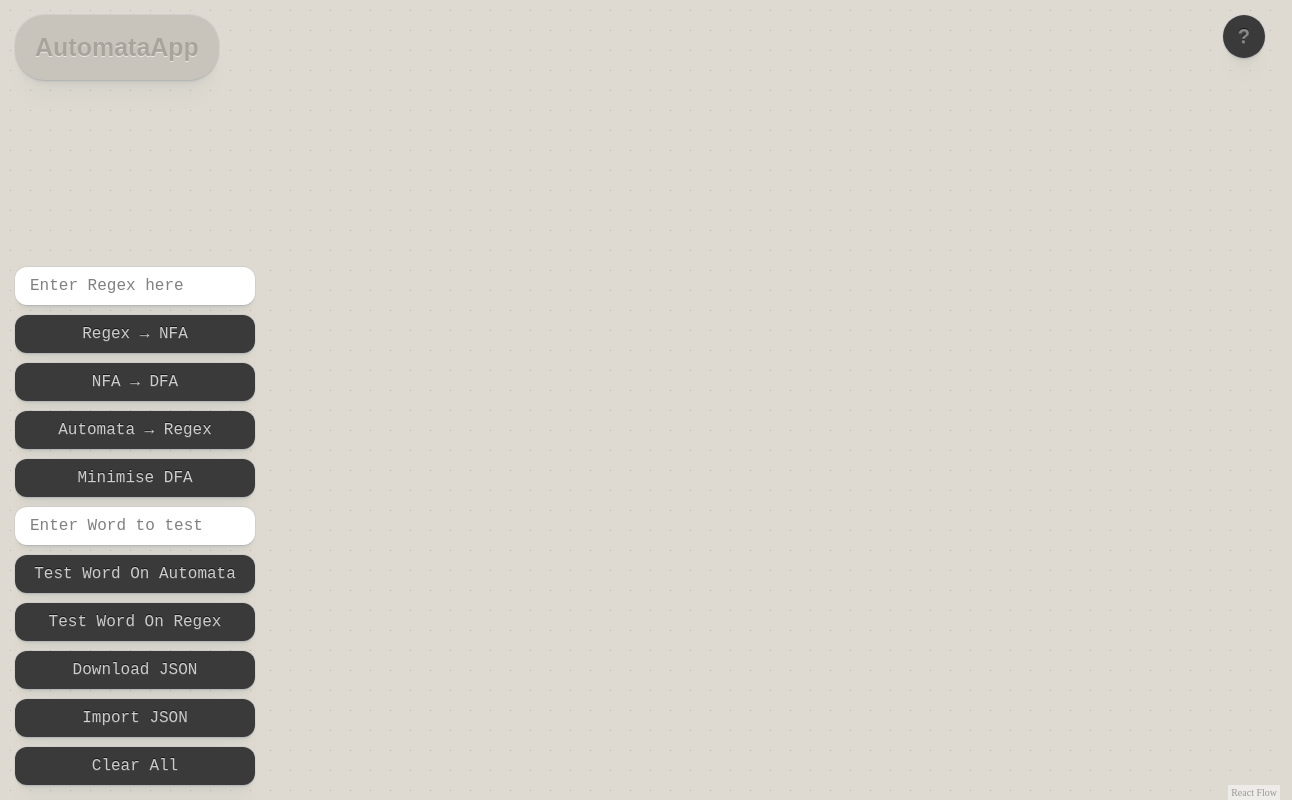
Test case: End-to-End testing: › correctlyAddsNodeToCanvas
Right-click the element with class "canvas-graph": (640, 400) [0, 0, 1280, 799]
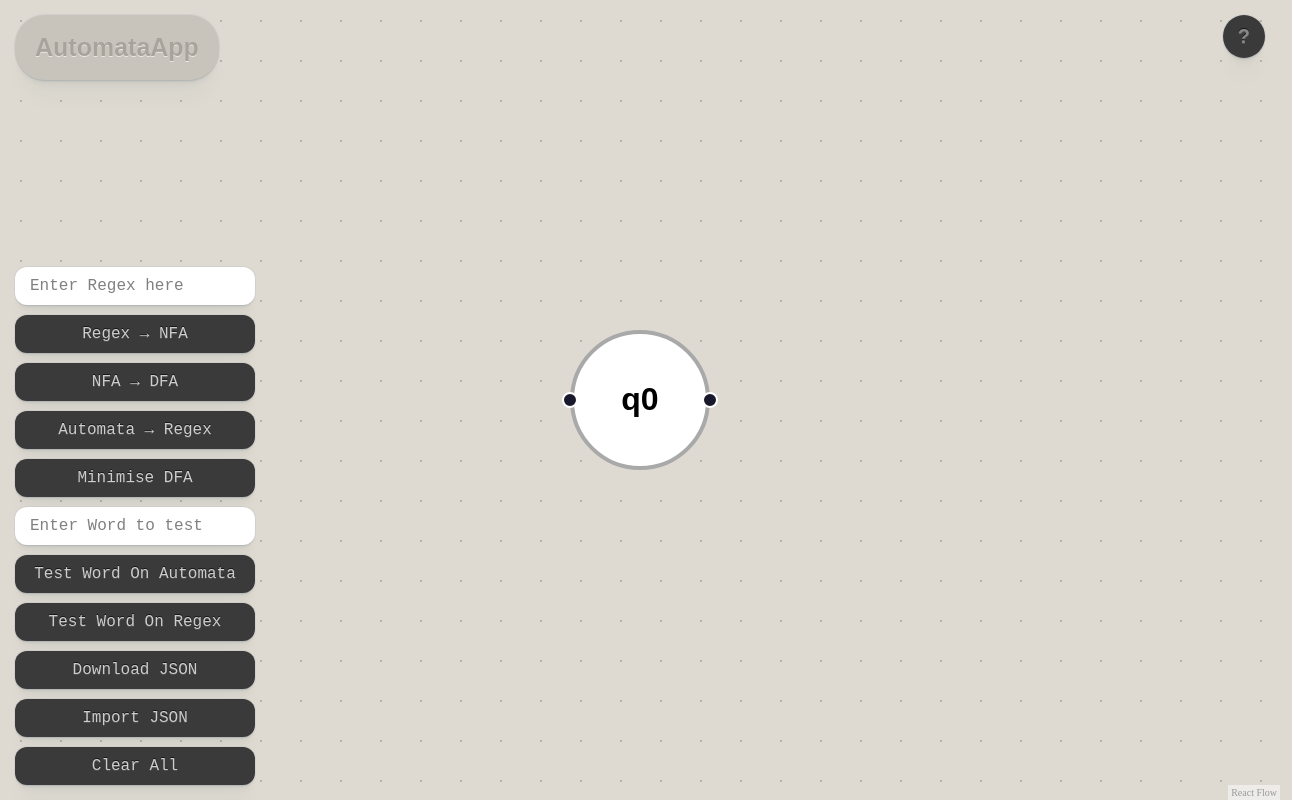
Result: the number of elements with class "custom-node" is at least 1 at [570, 330, 710, 470]
